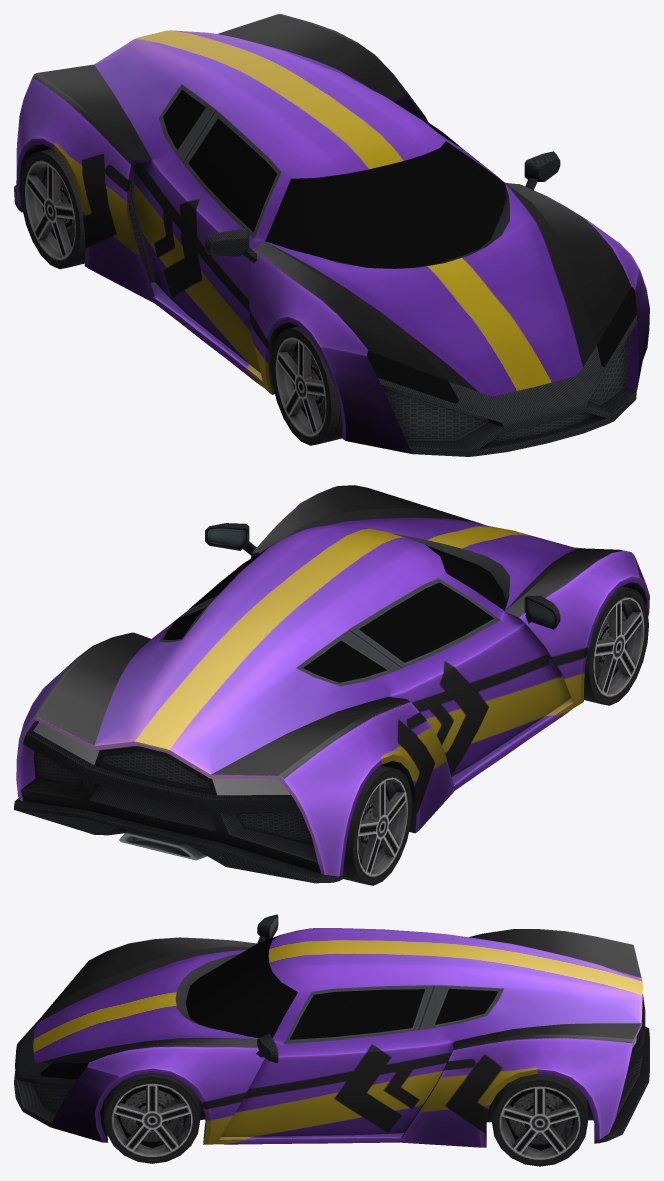
File: car 54 .fbx
3 renders of one model, top to bottom at view 1: azimuth 30°, elevation 25°; view 2: azimuth 150°, elevation 25°; view 3: azimuth 270°, elevation 25°, orthographic. The views are drawn at different scales.
Visible parts, largest first — view 1: Body_54.001, Glass_54, Matte_54, Wheel_R.001, Wheel_Back_R.001, Glass_light.001; view 2: Body_54.001, Matte_54, Glass_54, Wheel_Back_R.001, Wheel_R.001, Taillights_54; view 3: Body_54.001, Glass_54, Matte_54, Wheel_Back_L.001, Wheel_L.001, break_L.001, Matte_54.001, Glass_light.001.
Part boxes in pixels (x1=…): Body_54.001: x1=16, y1=14, x2=649, y2=453; Glass_54: x1=163, y1=90, x2=505, y2=268; Matte_54: x1=14, y1=67, x2=637, y2=456; Wheel_R.001: x1=271, y1=326, x2=342, y2=445; Wheel_Back_R.001: x1=20, y1=149, x2=85, y2=269; Glass_light.001: x1=367, y1=286, x2=636, y2=403; Body_54.001: x1=16, y1=485, x2=649, y2=876; Matte_54: x1=14, y1=523, x2=646, y2=883; Glass_54: x1=163, y1=545, x2=505, y2=682; Wheel_Back_R.001: x1=343, y1=765, x2=412, y2=885; Wheel_R.001: x1=584, y1=586, x2=648, y2=705; Taillights_54: x1=33, y1=722, x2=290, y2=795; Body_54.001: x1=33, y1=928, x2=642, y2=1147; Glass_54: x1=185, y1=935, x2=497, y2=1039; Matte_54: x1=14, y1=914, x2=649, y2=1145; Wheel_Back_L.001: x1=492, y1=1073, x2=587, y2=1166; Wheel_L.001: x1=104, y1=1072, x2=200, y2=1163; break_L.001: x1=117, y1=1086, x2=187, y2=1148; Matte_54.001: x1=505, y1=1089, x2=574, y2=1150; Glass_light.001: x1=40, y1=964, x2=88, y2=1079.
Size of the model in its own units: 159 by 84.72 by 313.
